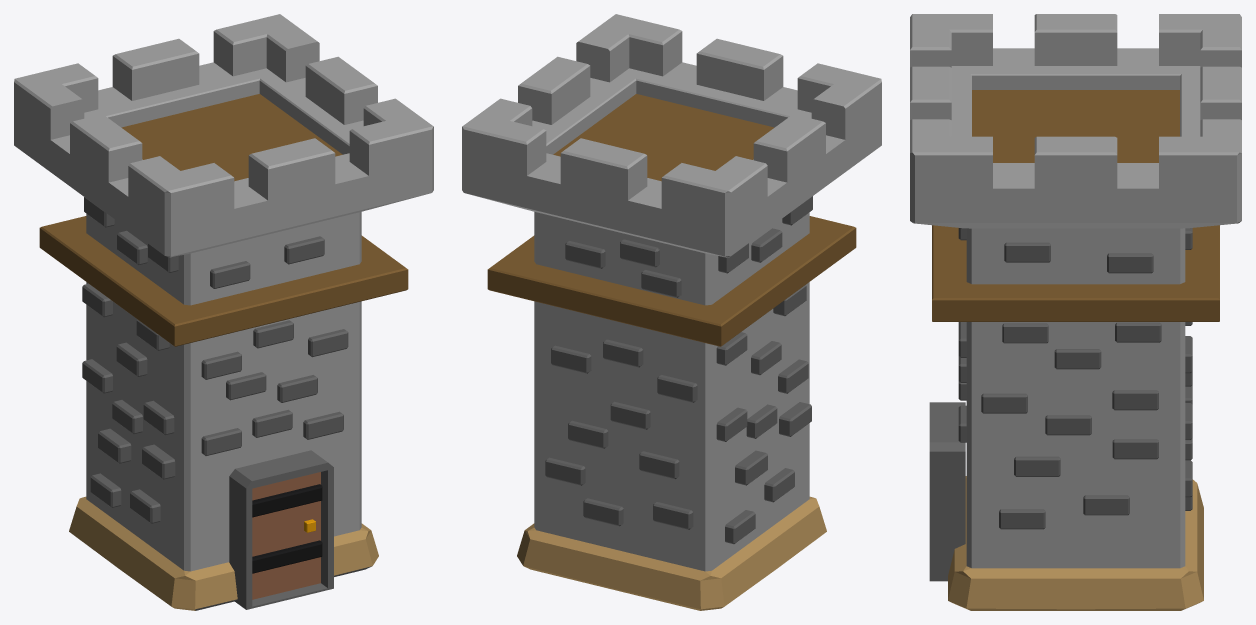
File: Tower.fbx
3 views of the same model, side by side, from view 1: azimuth 30°, elevation 25°; view 2: azimuth 150°, elevation 25°; view 3: azimuth 270°, elevation 25° (orthographic). The views are drawn at different scales.
Visible parts, largest first — view 1: Tower; view 2: Tower; view 3: Tower.
Part boxes in pixels (left/top/right/bottom): Tower: left=14, top=14, right=433, bottom=610; Tower: left=462, top=14, right=881, bottom=610; Tower: left=910, top=14, right=1241, bottom=610.
Size of the model in its own units: 199 by 315 by 199.
